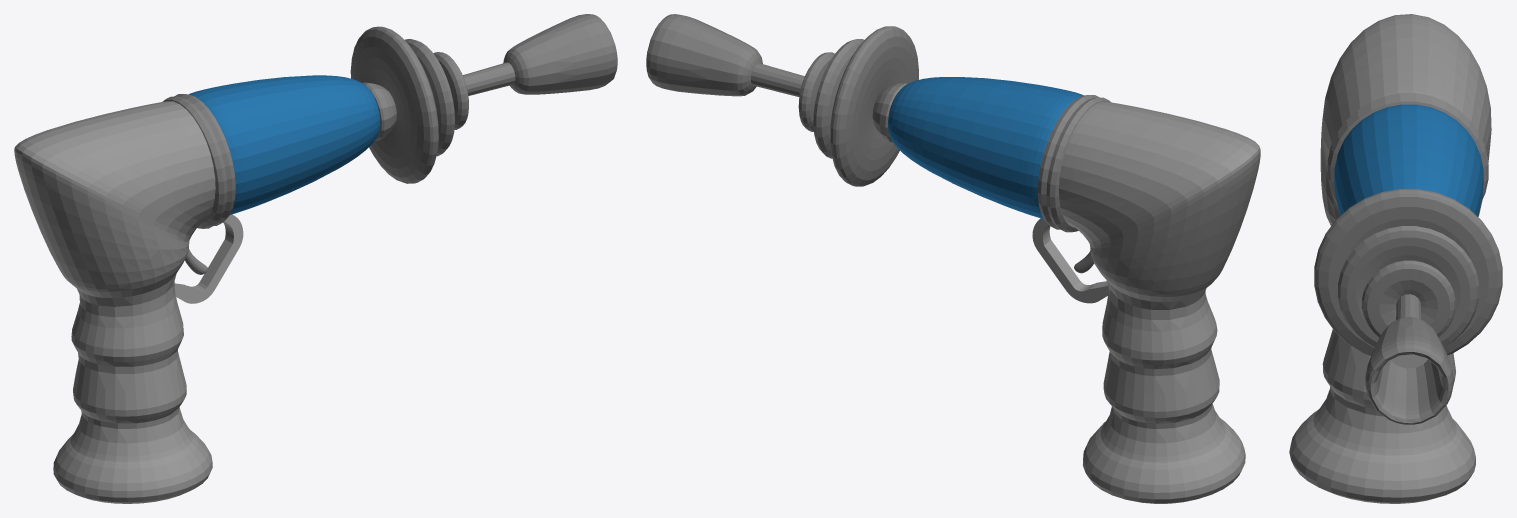
Rendered from Gun.fbx.
3 views of the same model, side by side, from view 1: azimuth 30°, elevation 25°; view 2: azimuth 150°, elevation 25°; view 3: azimuth 270°, elevation 25° (orthographic). The views are drawn at different scales.
Visible parts, largest first — view 1: Gun; view 2: Gun; view 3: Gun.
Boxes of the visible parts, x1,y1,x2,y2 form: Gun: (14,14,617,503); Gun: (646,14,1260,503); Gun: (1289,14,1502,503).
Bounding box in the file's own units: 113 × 70.27 × 30.93.
